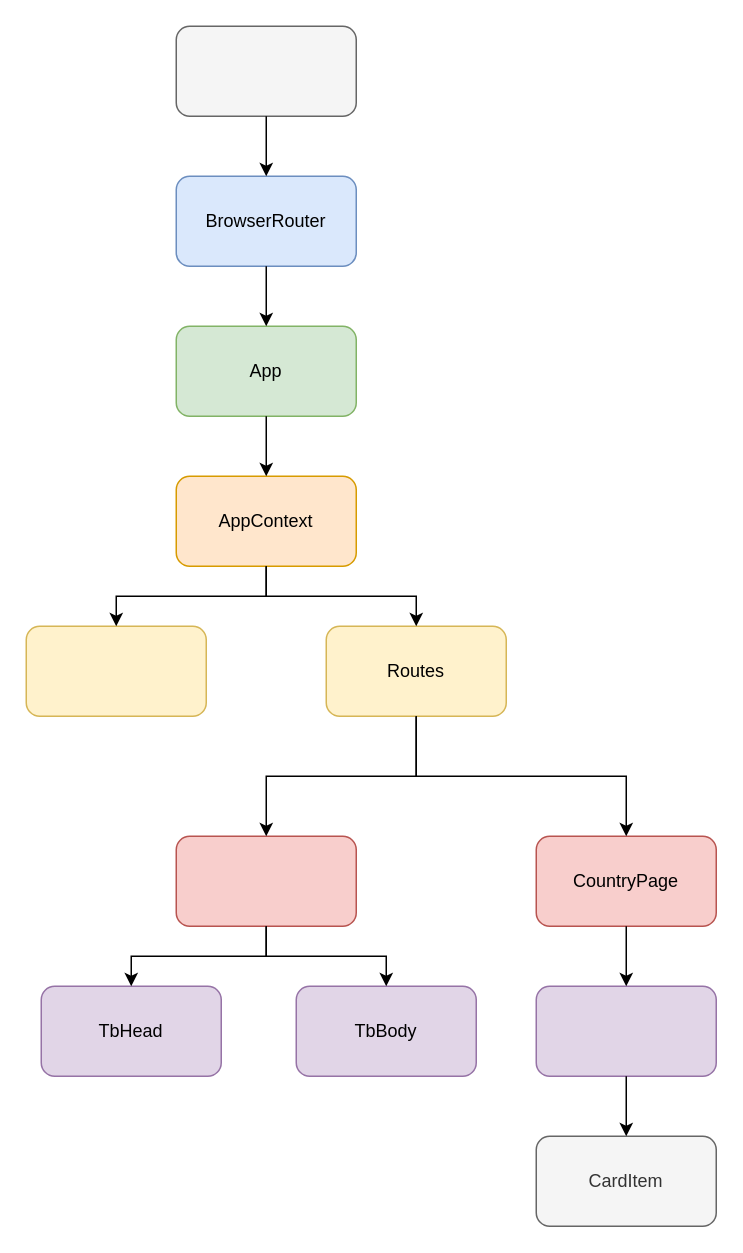
This 743x1253 diagram has some shape labels left out. Here are the shapes that lost their labels. From the top down, the centre of each, then its label:
At (x=265, y=70): "Redux State".
At (x=115, y=670): "HeaderApp".
At (x=265, y=880): "HomePage".
At (x=625, y=1030): "CardList".
